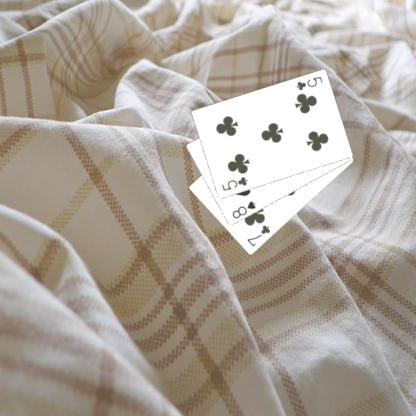5C: (293, 74, 324, 92), (218, 174, 248, 192)
7C: (244, 223, 272, 249)
8S: (230, 198, 258, 220)
